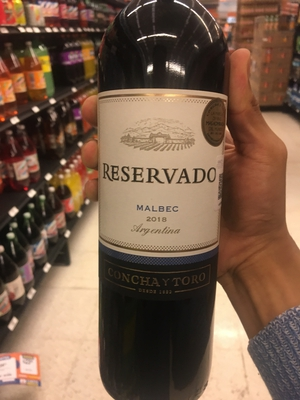reservado malbec: (99, 5, 239, 400)
